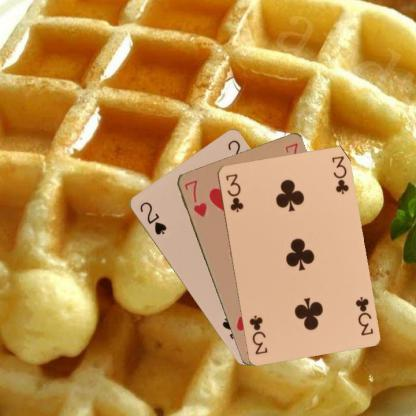2s: (136, 199, 167, 236)
3c: (352, 293, 374, 337), (223, 171, 244, 213)
7h: (181, 177, 208, 218)
